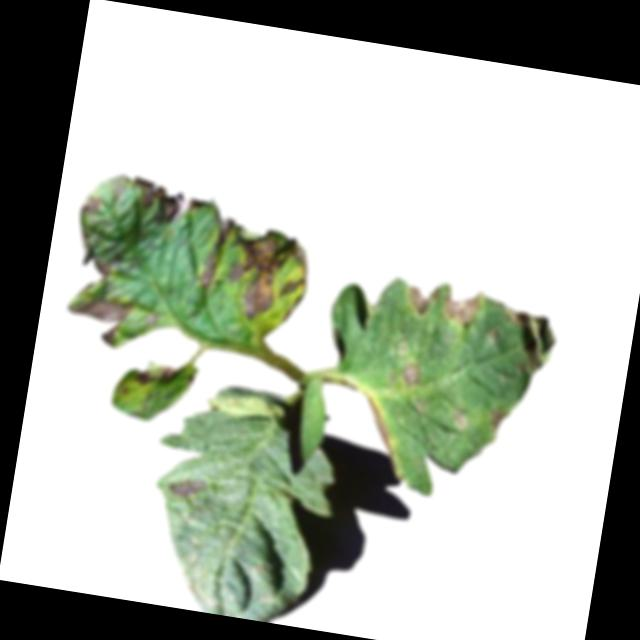Early_blight: (219, 225, 314, 333), (130, 176, 211, 234), (359, 396, 411, 474), (64, 293, 136, 347), (65, 216, 117, 281), (196, 213, 235, 294), (440, 285, 482, 332), (132, 357, 182, 393), (403, 279, 441, 319), (165, 474, 203, 503), (485, 406, 512, 435), (399, 362, 423, 392), (80, 192, 105, 217)
